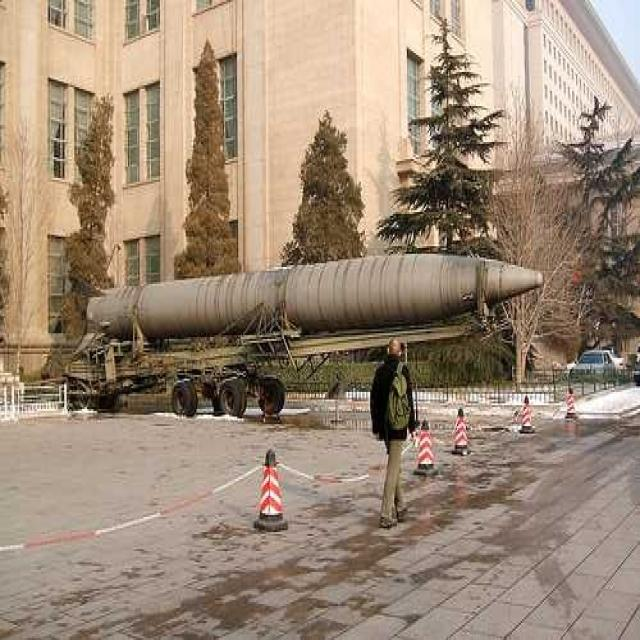missile: (65, 247, 546, 334)
